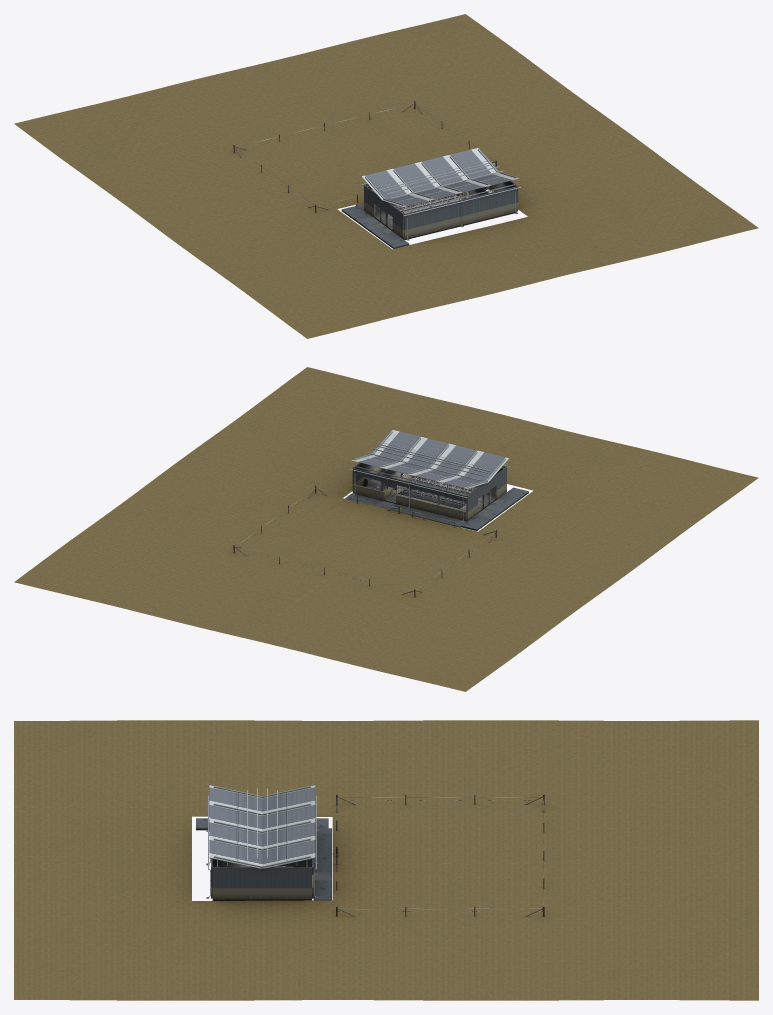
The model's file is dairy_low.glb.
3 views of the same model, one above another, from view 1: azimuth 30°, elevation 25°; view 2: azimuth 150°, elevation 25°; view 3: azimuth 270°, elevation 25° (orthographic). The views are drawn at different scales.
Visible parts, largest first — view 1: site_ground, roof, walls_ext, floor_0, props_fence; view 2: site_ground, roof, walls_ext, floor_0, props_stalls, props_fence; view 3: site_ground, roof, walls_ext, floor_0, props_fence.
Part boxes in pixels (x1,y1,x2,y2): site_ground: [14, 14, 758, 338]; roof: [361, 147, 520, 212]; walls_ext: [361, 181, 520, 238]; floor_0: [341, 187, 516, 248]; props_fence: [233, 101, 496, 213]; site_ground: [14, 367, 758, 691]; roof: [350, 429, 508, 494]; walls_ext: [349, 463, 509, 520]; floor_0: [345, 470, 528, 530]; props_stalls: [396, 473, 478, 508]; props_fence: [233, 475, 496, 597]; site_ground: [14, 720, 758, 1000]; roof: [209, 785, 315, 869]; walls_ext: [208, 796, 316, 899]; floor_0: [196, 818, 331, 900]; props_fence: [336, 794, 544, 916].
Size of the model in its own units: 80 by 7.29 by 90.
Materials: 18 (18 with a texture image).
